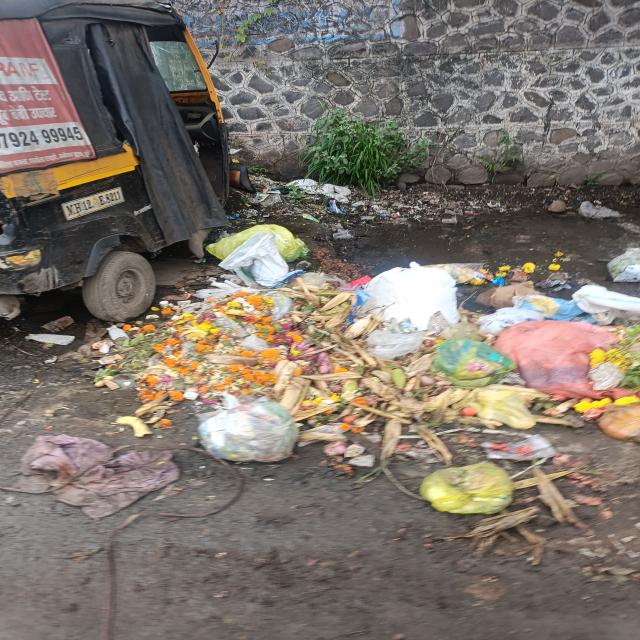garbage: (109, 229, 640, 509)
